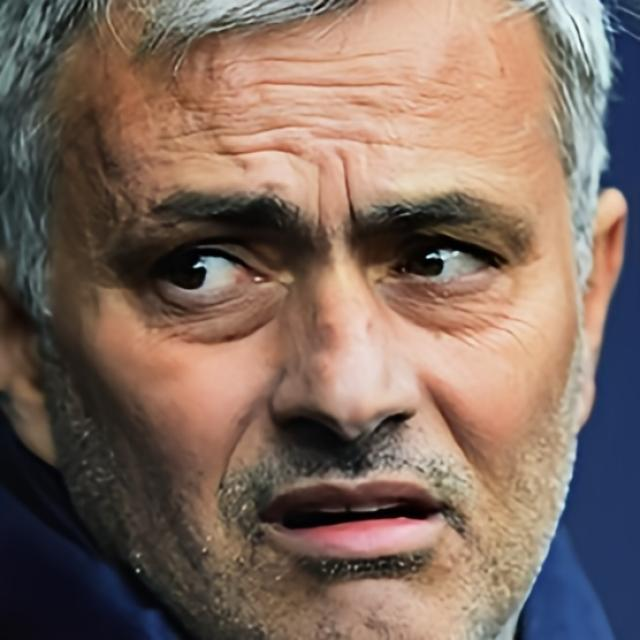disgust: (53, 6, 585, 640)
